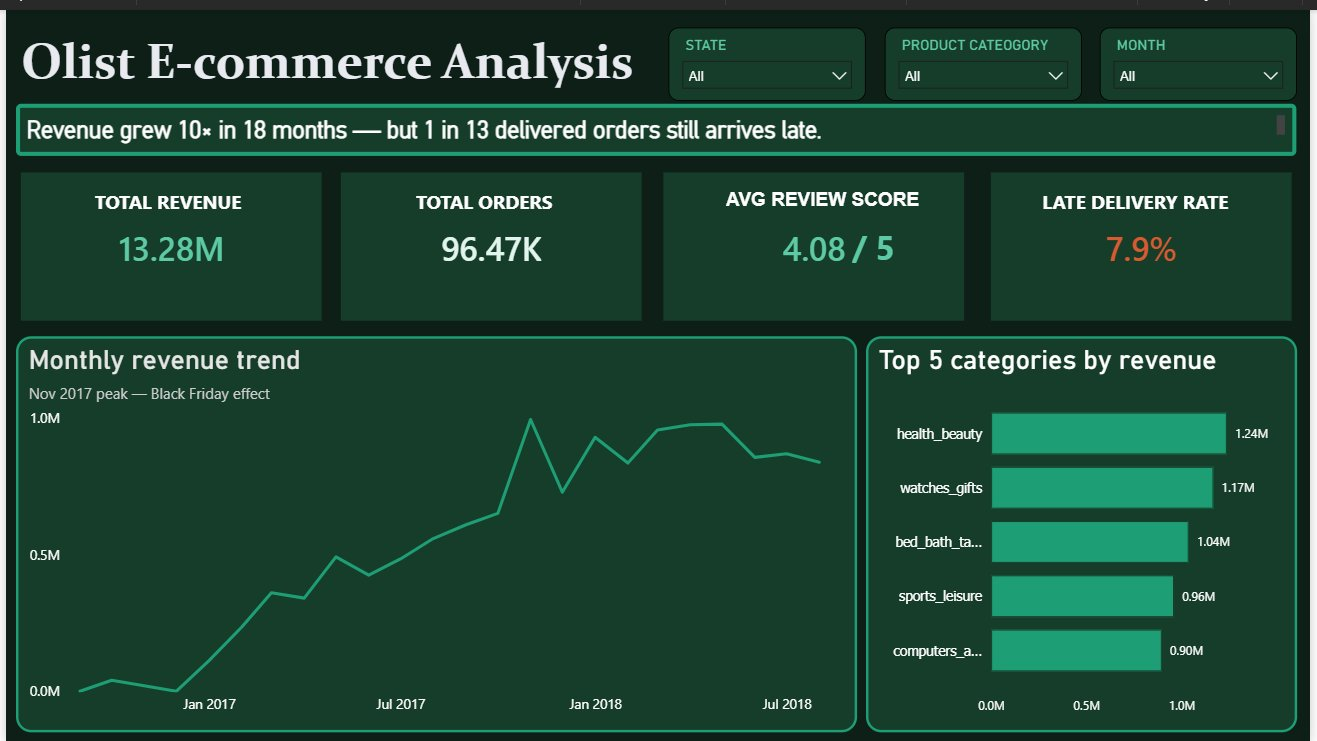

Layout of this report page (visuals, bound fields, positions):
{"tool":"powerbi","page":{"name":"Overview","canvas":[1280,720],"ordinal":0},"visuals":[{"type":"textbox","box":[9.8,92,1256.4,51.5],"z":0},{"type":"cardVisual","title":"TOTAL REVENUE","fields":{"Data":["Sum(clean_orders.price)"]},"box":[9.8,154.6,305.5,155.8],"z":1000},{"type":"cardVisual","title":"TOTAL REVENUE","fields":{"Data":["Count(clean_orders.order_id)"]},"box":[323.9,154.6,305.5,155.8],"z":2000},{"type":"cardVisual","title":"TOTAL REVENUE","fields":{"Data":["Avg(clean_orders.review_score)"]},"box":[640.5,154.6,305.5,155.8],"z":3000},{"type":"cardVisual","title":"TOTAL REVENUE","fields":{"Data":["clean_orders.Late Rate"]},"box":[962,154.6,305.5,155.8],"z":4000},{"type":"lineChart","title":"Monthly revenue trend","fields":{"Y":["Sum(clean_orders.price)"],"Category":["clean_orders.order_month.Variation.Date Hierarchy.Year","clean_orders.order_month.Variation.Date Hierarchy.Quarter","clean_orders.order_month.Variation.Date Hierarchy.Month","clean_orders.order_month.Variation.Date Hierarchy.Day"]},"box":[9.8,320.2,825.8,389],"z":5000},{"type":"clusteredBarChart","title":"Top 5 categories by revenue","fields":{"Category":["clean_orders.product_category_name_english"],"Y":["Sum(clean_orders.price)"]},"box":[844.2,320.2,423.3,389],"z":6000},{"type":"textbox","box":[9.8,17.2,1256.4,63.8],"z":7000},{"type":"slicer","fields":{"Values":["clean_orders.customer_state"]},"box":[650.3,17.2,193.9,72.4],"z":8000},{"type":"slicer","fields":{"Values":["clean_orders.order_month"]},"box":[1073.6,17.2,193.9,72.4],"z":9000},{"type":"slicer","fields":{"Values":["clean_orders.product_category_name_english"]},"box":[862.6,17.2,193.9,72.4],"z":10000},{"type":"textbox","box":[82.2,170.6,162,36.8],"z":11000},{"type":"textbox","box":[397.5,170.6,160.7,39.3],"z":12000},{"type":"textbox","box":[701.8,170.6,206.1,51.5],"z":13000},{"type":"textbox","box":[1012.3,170.6,207.4,44.2],"z":14000},{"type":"textbox","box":[825.8,206.1,73.6,55.2],"z":15000}]}

Visuals, with their boxes in screenshot pixels (x1, y1, x2, y2), scaled from the page's 1280x720 canvas onto the 1317x741 screenshot:
textbox: <region>10, 95, 1303, 148</region>
"TOTAL REVENUE" cardVisual: <region>10, 159, 324, 319</region>
"TOTAL REVENUE" cardVisual: <region>333, 159, 648, 319</region>
"TOTAL REVENUE" cardVisual: <region>659, 159, 973, 319</region>
"TOTAL REVENUE" cardVisual: <region>990, 159, 1304, 319</region>
"Monthly revenue trend" lineChart: <region>10, 330, 860, 730</region>
"Top 5 categories by revenue" clusteredBarChart: <region>869, 330, 1304, 730</region>
textbox: <region>10, 18, 1303, 83</region>
slicer - clean_orders.customer_state: <region>669, 18, 869, 92</region>
slicer - clean_orders.order_month: <region>1105, 18, 1304, 92</region>
slicer - clean_orders.product_category_name_english: <region>888, 18, 1087, 92</region>
textbox: <region>85, 176, 251, 213</region>
textbox: <region>409, 176, 574, 216</region>
textbox: <region>722, 176, 934, 229</region>
textbox: <region>1042, 176, 1255, 221</region>
textbox: <region>850, 212, 925, 269</region>
